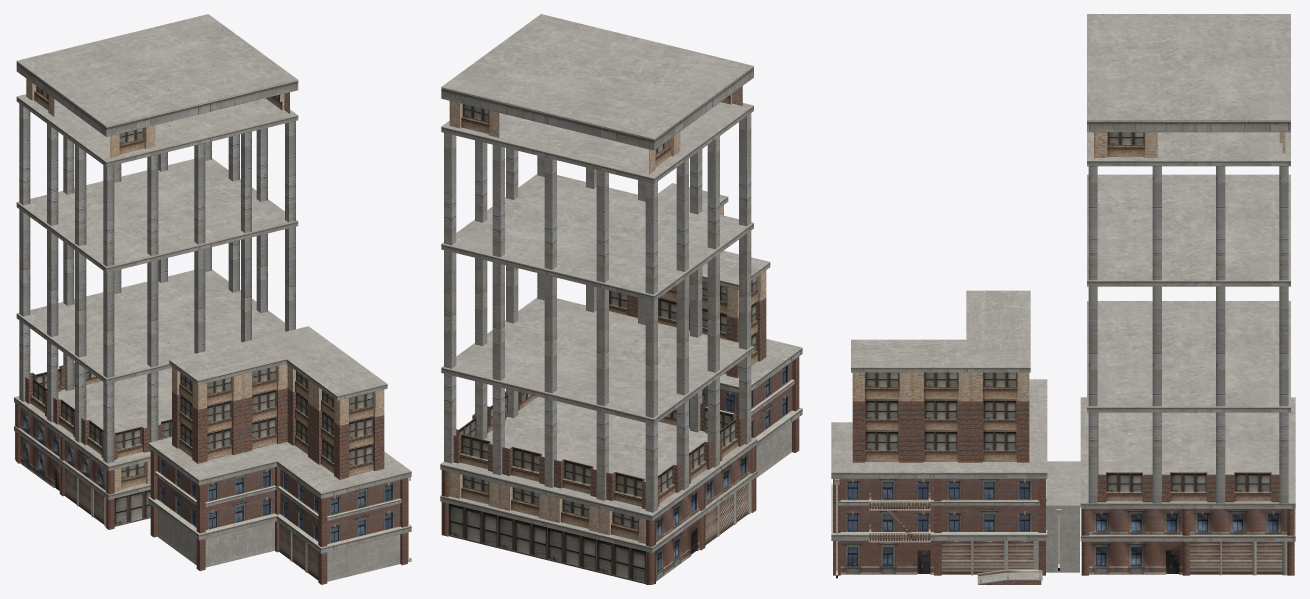
Rendered from Buildings.fbx.
3 renders of one model, left to right at view 1: azimuth 30°, elevation 25°; view 2: azimuth 150°, elevation 25°; view 3: azimuth 270°, elevation 25°, orthographic. The views are drawn at different scales.
Visible parts, largest first — view 1: Cube.004, Atlas.002; view 2: Cube.004, Atlas.002; view 3: Cube.004, Atlas.002.
Boxes of the visible parts, <box> form: Cube.004: <box>14,14,298,529</box>; Atlas.002: <box>148,326,411,584</box>; Cube.004: <box>440,14,757,584</box>; Atlas.002: <box>609,183,802,477</box>; Cube.004: <box>1080,14,1295,575</box>; Atlas.002: <box>831,290,1080,584</box>.
Bounding box in the file's own units: 173 × 322 × 296.
